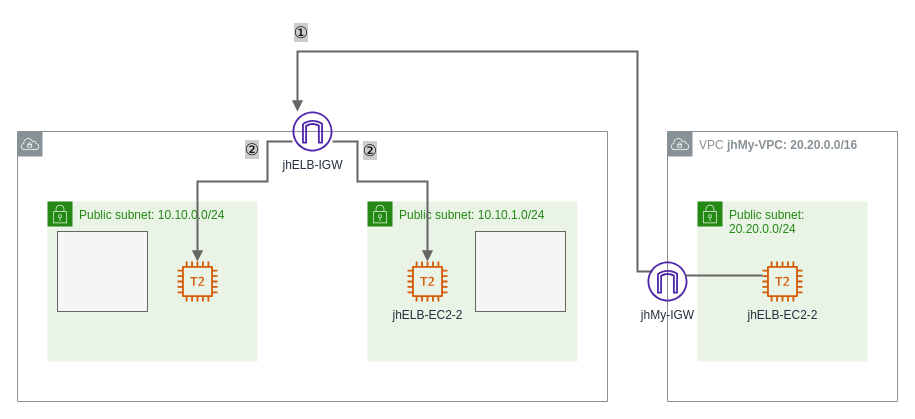
This 915x419 diagram has some shape labels left out. Each missing label, with the box of its shape:
HTTP /index.html /dev/index.html SNMP: (56, 230, 148, 312)
HTTP /index.html /mgt/index.html SNMP: (474, 230, 566, 312)
jhELB-EC2-1: (177, 261, 217, 301)
VPC jhELB-VPC: 10.10.0.0/16: (16, 130, 608, 402)
